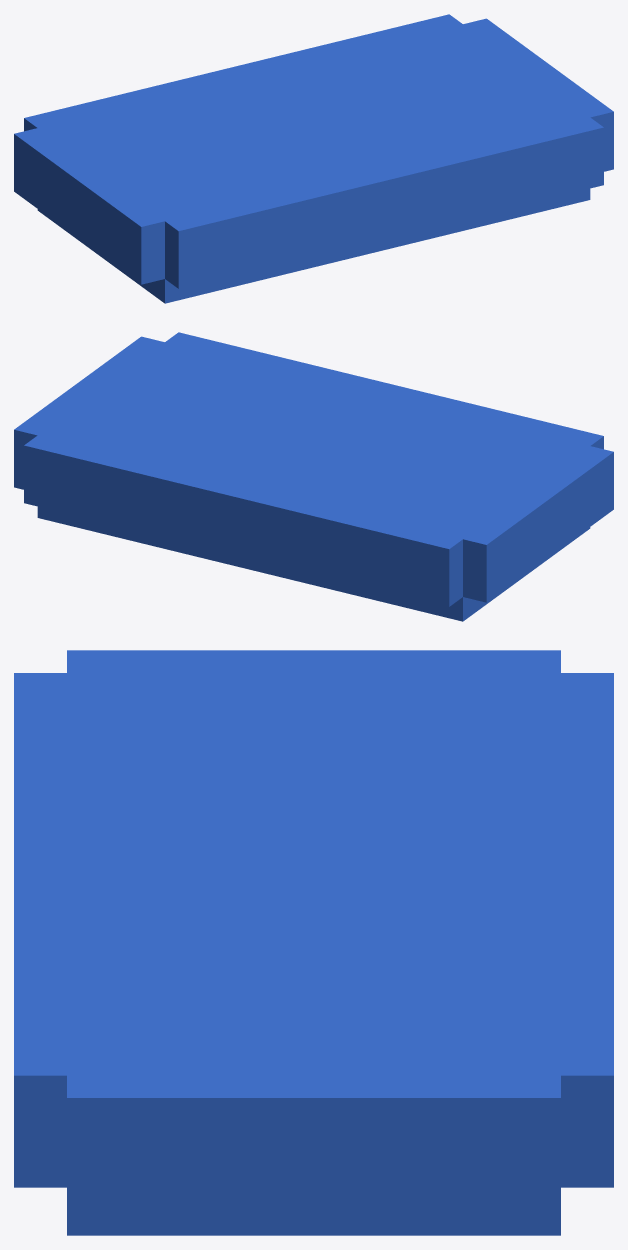
The model's file is default_pants_body.fbx.
3 views of the same model, one above another, from view 1: azimuth 30°, elevation 25°; view 2: azimuth 150°, elevation 25°; view 3: azimuth 270°, elevation 25° (orthographic). The views are drawn at different scales.
Visible parts, largest first — view 1: Pants_body; view 2: Pants_body; view 3: Pants_body.
Boxes of the visible parts, x1,y1,x2,y2 form: Pants_body: [14, 14, 613, 303]; Pants_body: [14, 332, 613, 621]; Pants_body: [14, 650, 613, 1235].
Bounding box in the file's own units: 60 × 10 × 34.
